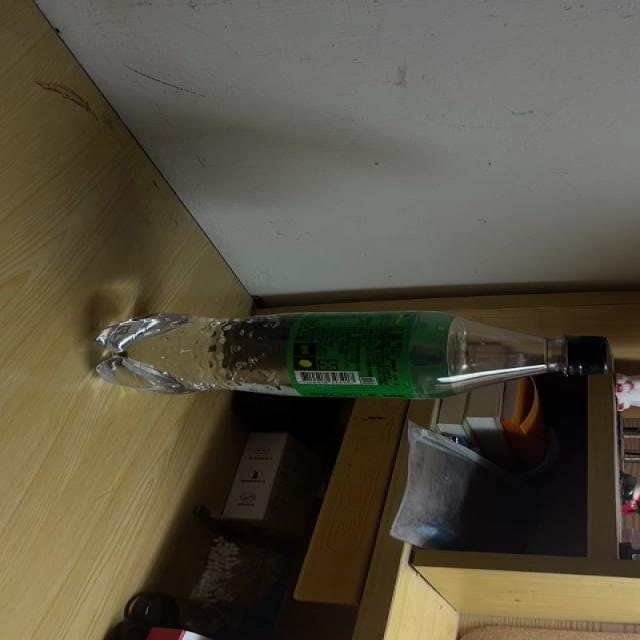Sprite: (95, 312, 612, 400)
